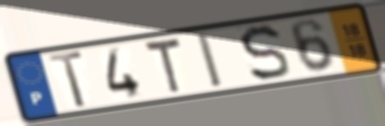4: (105, 47, 144, 99)
6: (289, 17, 335, 75)
I: (194, 30, 227, 90)
S: (237, 23, 293, 84)
T: (47, 49, 90, 110), (142, 36, 185, 96)
